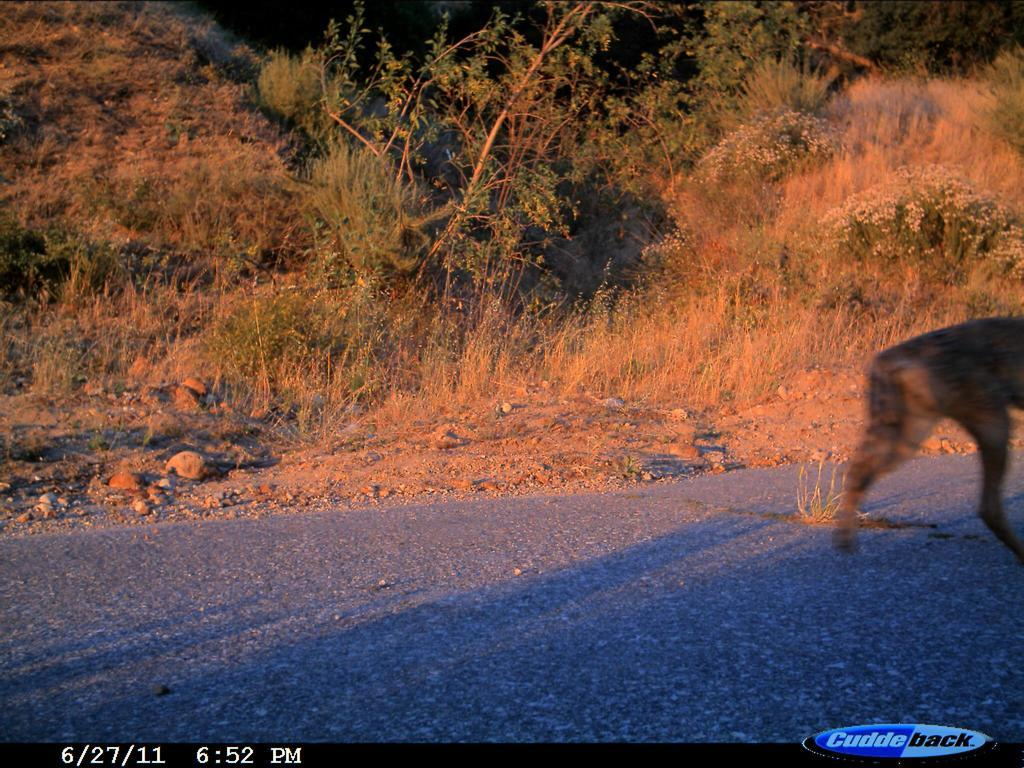coyote: (830, 308, 1018, 571)
